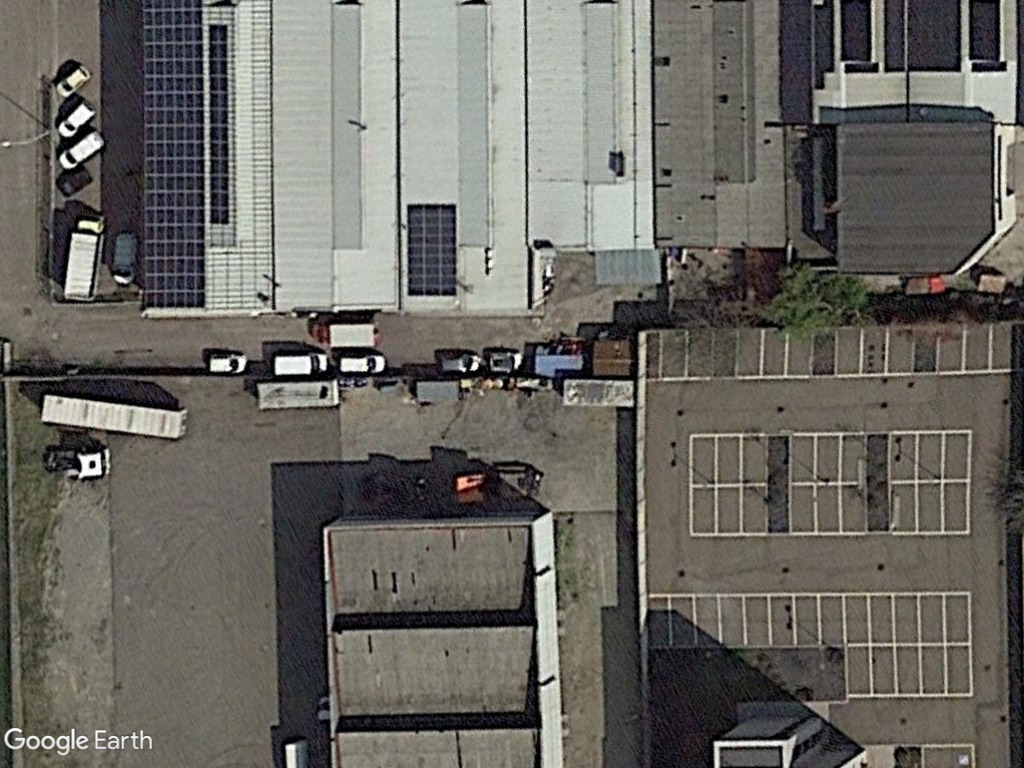car: (50, 59, 93, 101), (331, 350, 391, 379), (431, 347, 487, 378), (204, 348, 254, 379)
longvehicle: (38, 390, 192, 443)
truck: (57, 211, 110, 305), (300, 318, 384, 356)
van: (56, 123, 109, 172), (48, 94, 98, 141), (110, 226, 142, 289), (268, 349, 335, 379)
